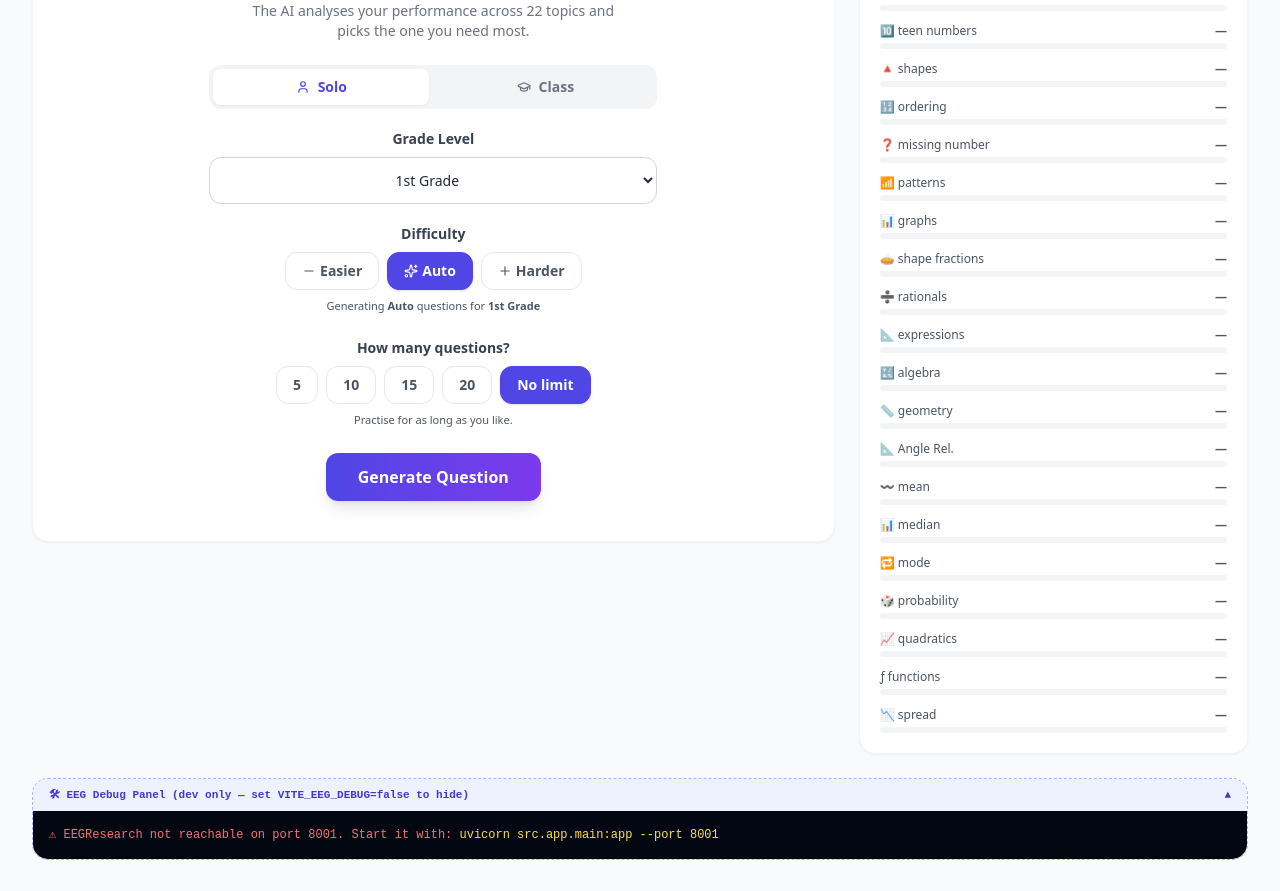
Scenario: waits neutrally, rather than saying "not recording", before anything has come back
(page scrolled)
Click the button "Generate Question": (433, 476) [326, 452, 541, 500]
(page scrolled)
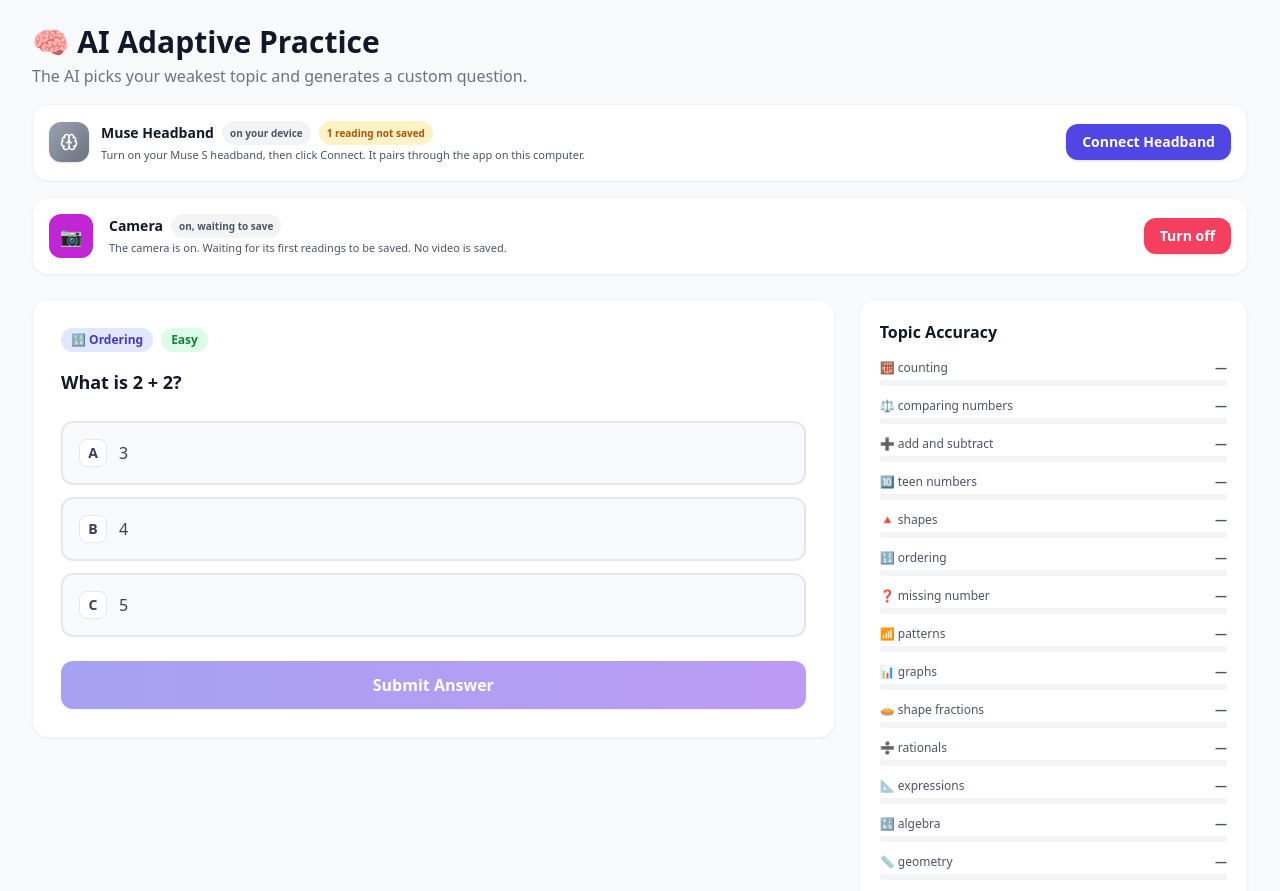
Expected: the text "What is 2 + 2?" is shown, [61, 370, 182, 394]
Expected: the text "1 reading not saved" is shown, [319, 121, 433, 145]
Expected: the text "on, waiting to save" is shown, [171, 214, 281, 238]
